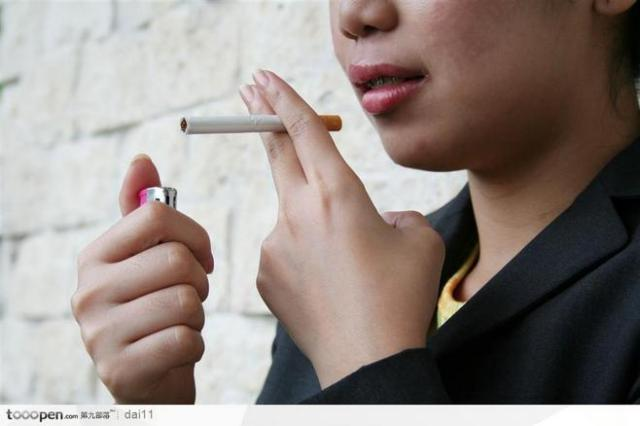Smoking: (174, 108, 346, 136)
